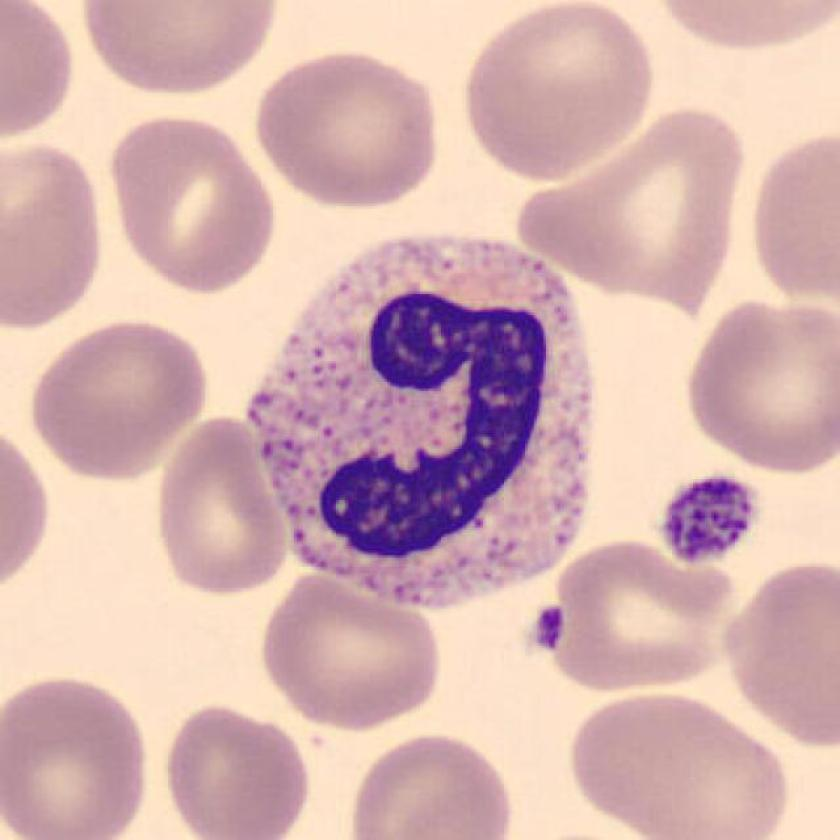neutrophil: (247, 235, 587, 605)
